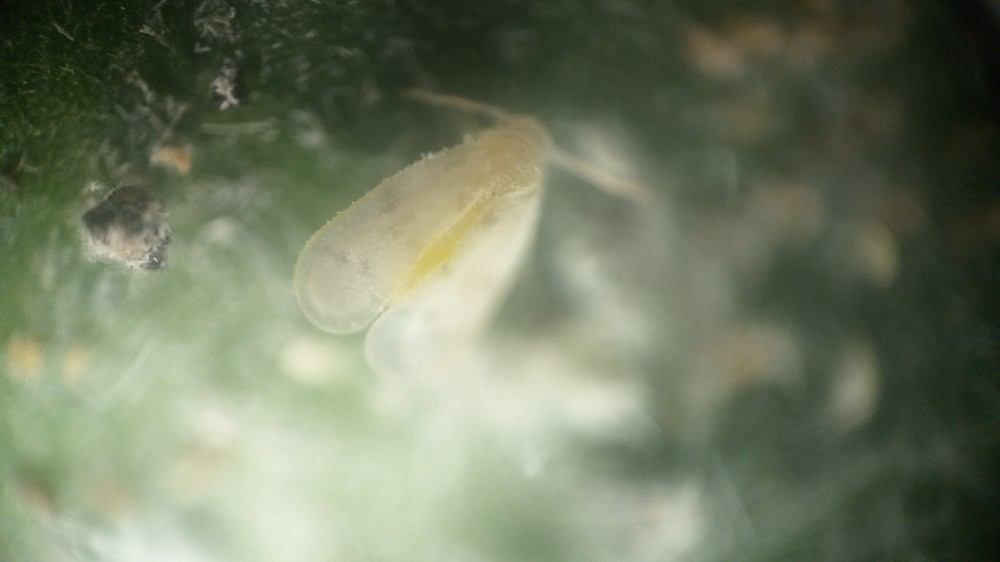Mosca Blanca: (274, 76, 675, 411)
